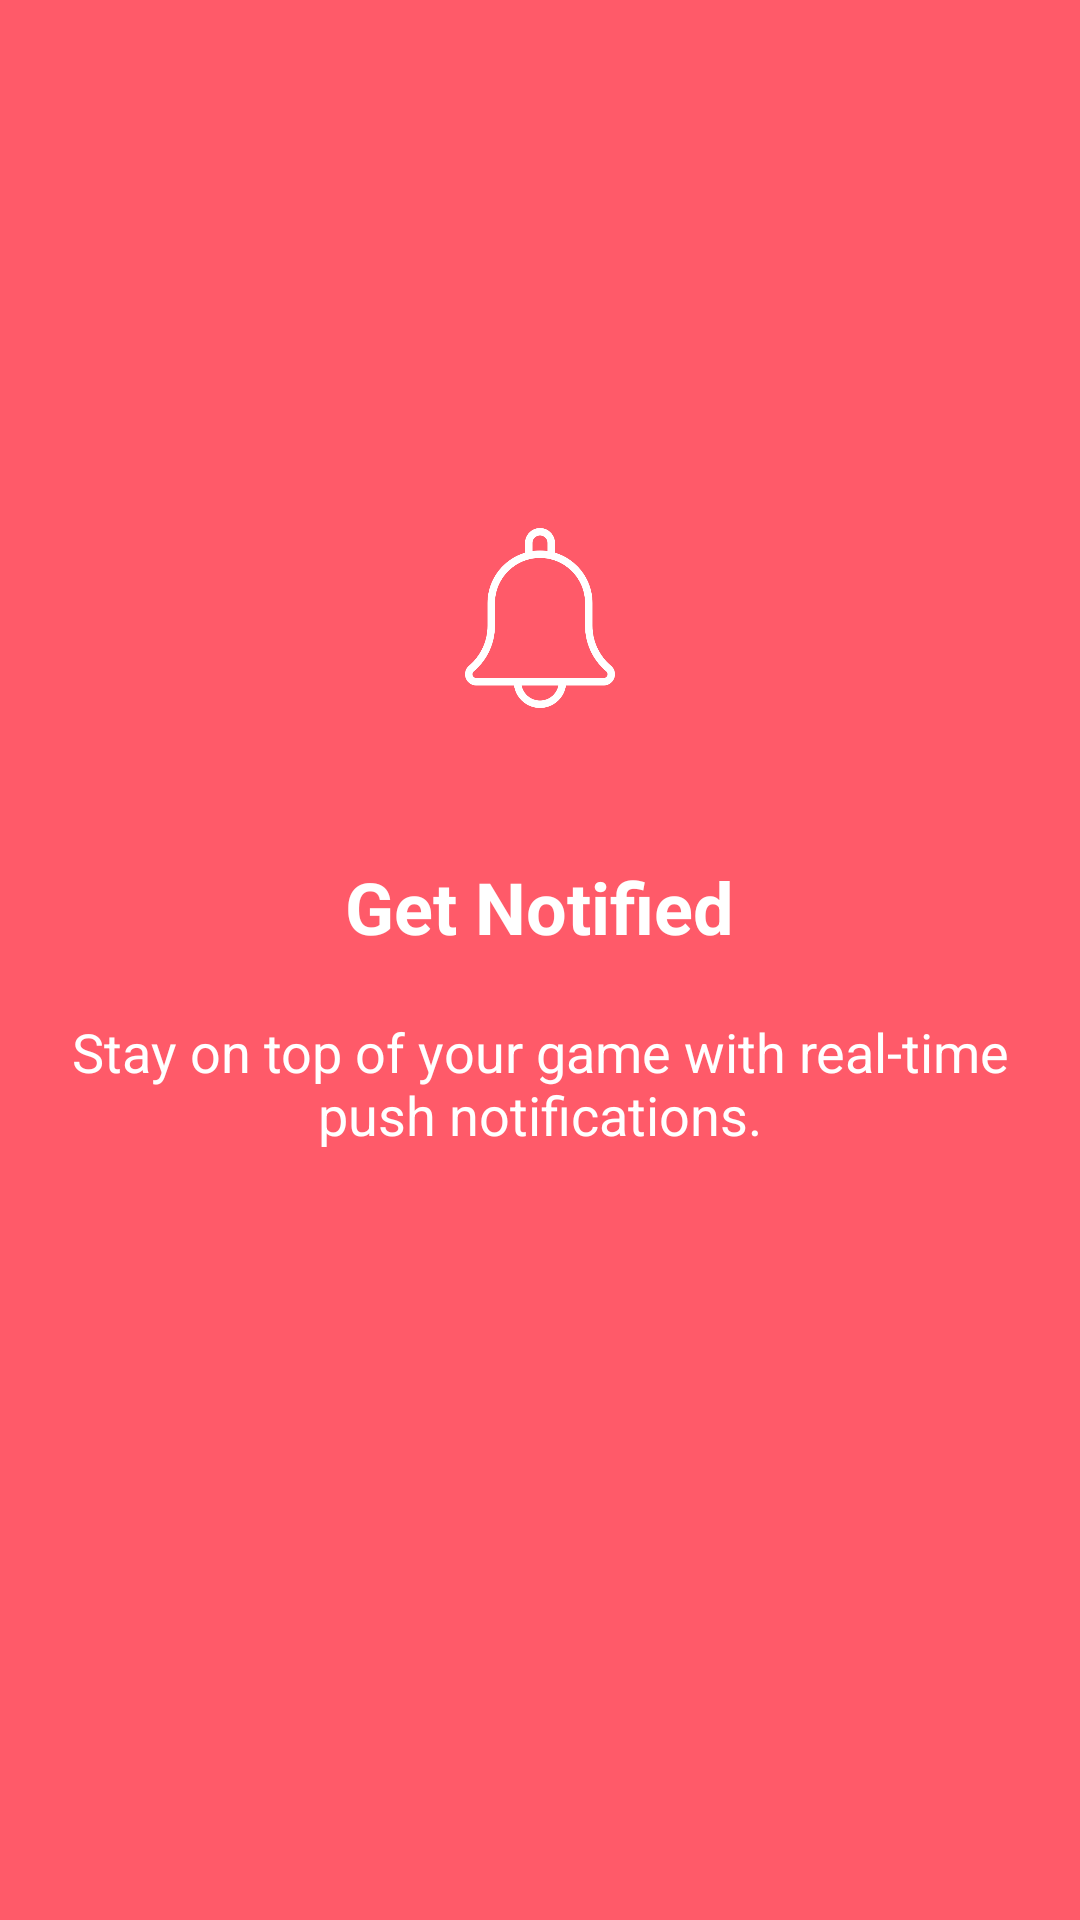

Where to tap for icons on this 1080×1920 app screen, as point (x, y):
bell: point (540, 618)
